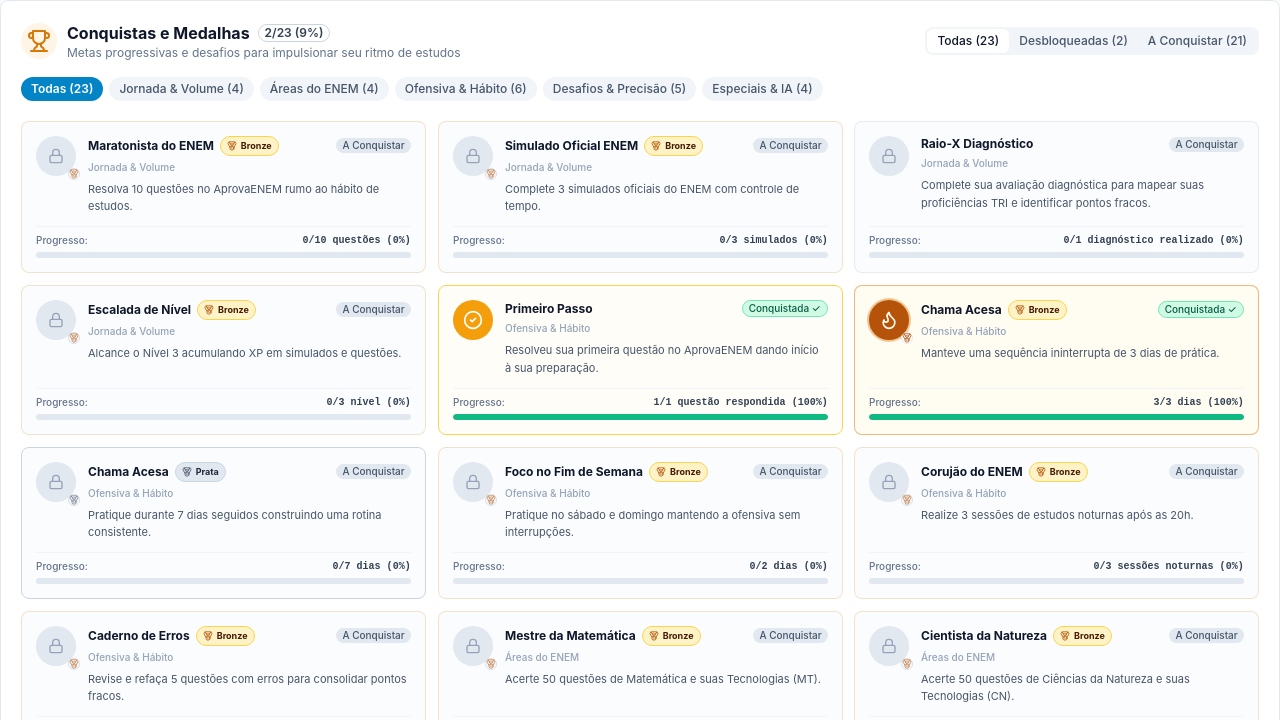
BadgeShelf Component › filters badges by category pills and displays progressive indicators
This screenshot has width=1280, height=720.
// Click "Áreas do ENEM"
Click the button "Áreas do ENEM (4)" at x=324, y=89, box [260,77,389,101]
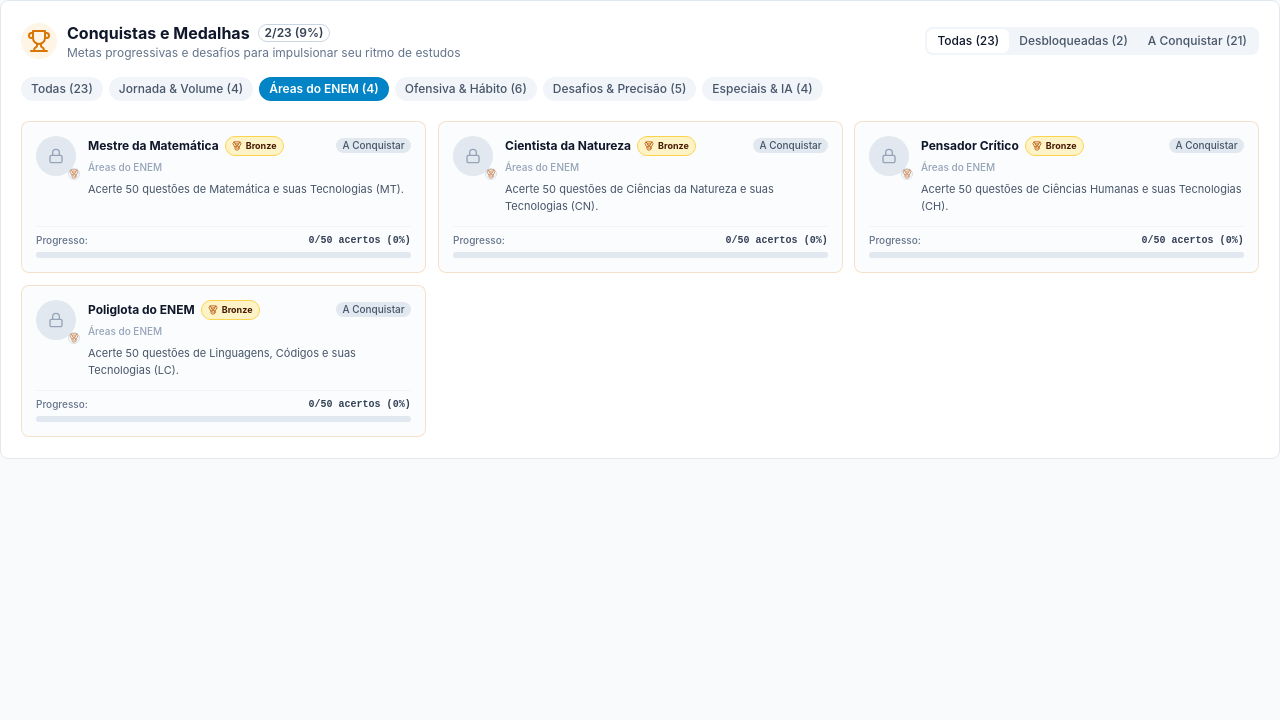
Expected: the text "Mestre da Matemática" is shown, [88,138,219,154]
Result: the text "Primeiro Passo" is gone
// Click "Jornada & Volume"
Click the button "Jornada & Volume (4)" at x=181, y=89, box [109,77,253,101]
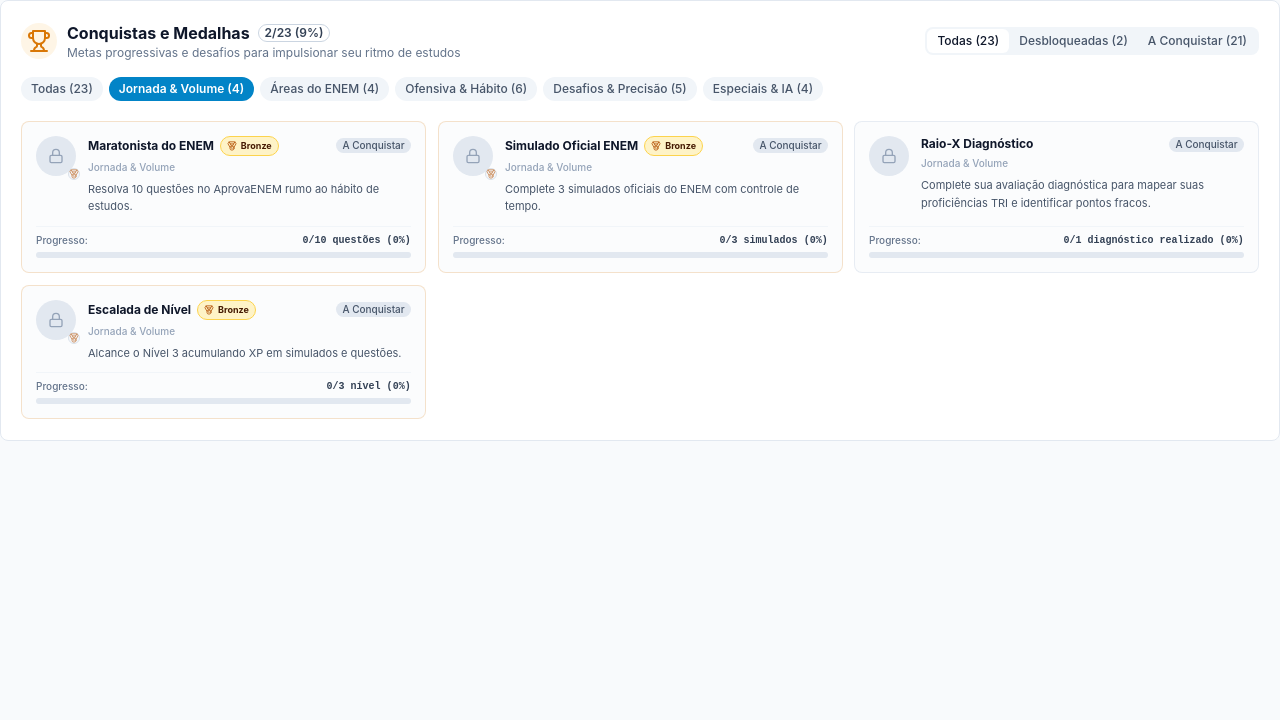
Result: the text "Maratonista do ENEM" is shown at [88,138,214,154]
Result: the text "Simulado Oficial ENEM" is shown at [505,138,638,154]
Result: the text "Raio-X Diagnóstico" is shown at [921,136,1034,152]
